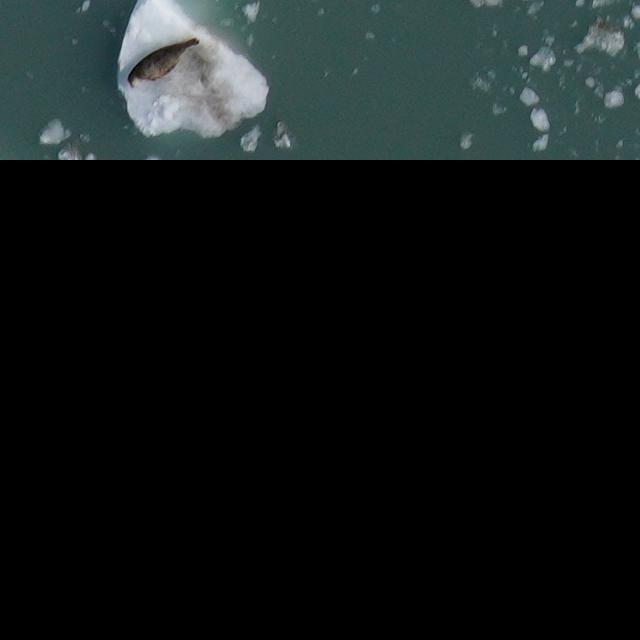seal: (123, 33, 203, 93)
